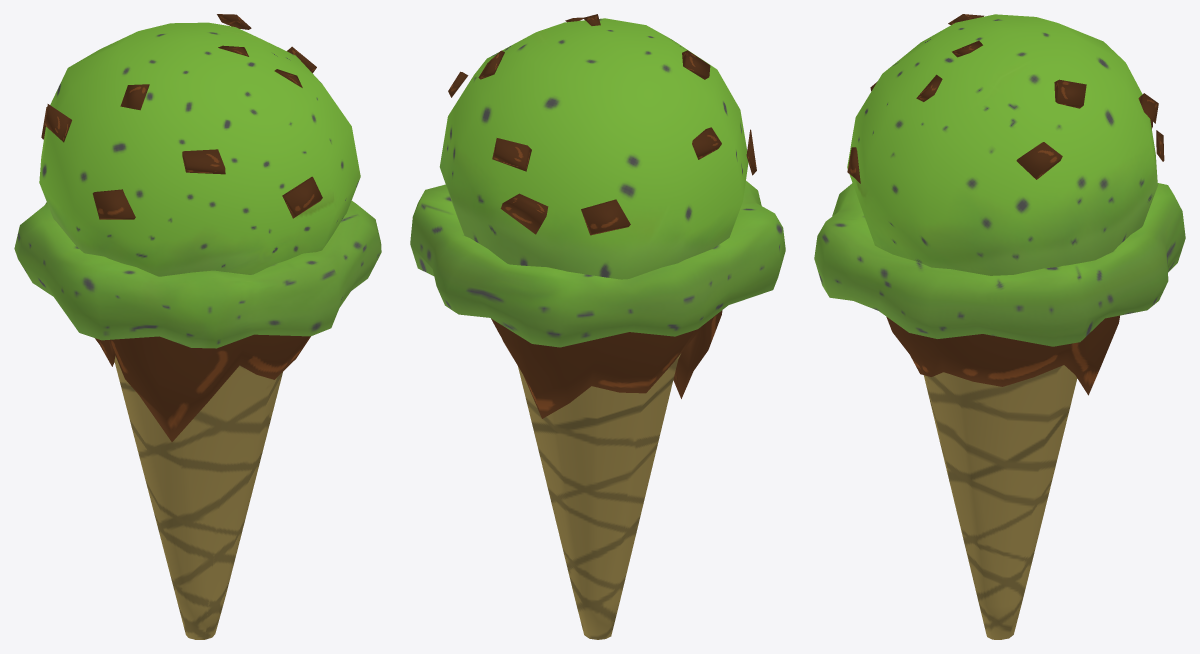
3 views of the same model, side by side, from view 1: azimuth 30°, elevation 25°; view 2: azimuth 150°, elevation 25°; view 3: azimuth 270°, elevation 25° (orthographic).
Visible parts, largest first — view 1: Pistache; view 2: Pistache; view 3: Pistache.
Boxes of the visible parts, box(x1,y1,x2,y2) form: Pistache: box(14, 14, 381, 639); Pistache: box(410, 14, 785, 639); Pistache: box(814, 14, 1185, 639).
Size of the model in its own units: 1.22 by 2.26 by 1.27.
Materials: 1 (1 with a texture image).
